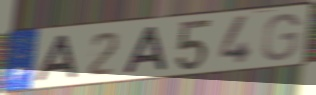2: (86, 30, 121, 78)
4: (217, 14, 254, 69)
5: (174, 18, 214, 72)
A: (33, 32, 81, 84), (122, 24, 170, 75)
G: (260, 11, 302, 62)
